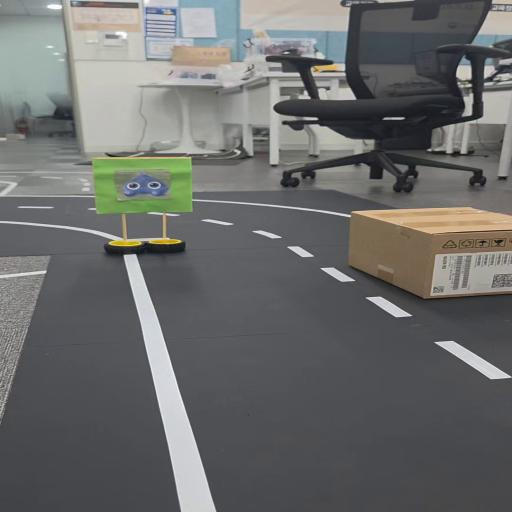Box: (344, 205, 512, 297)
